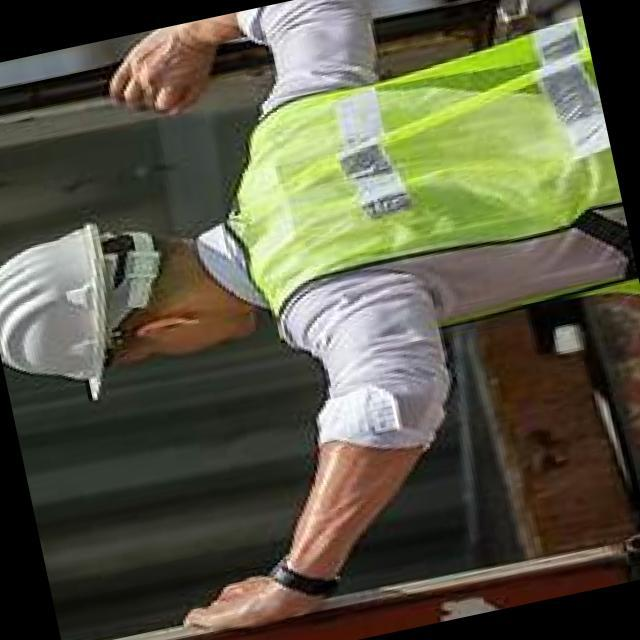not-gloved: (158, 531, 338, 640), (91, 14, 237, 122)
